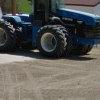Tractor: (5, 4, 100, 67)
